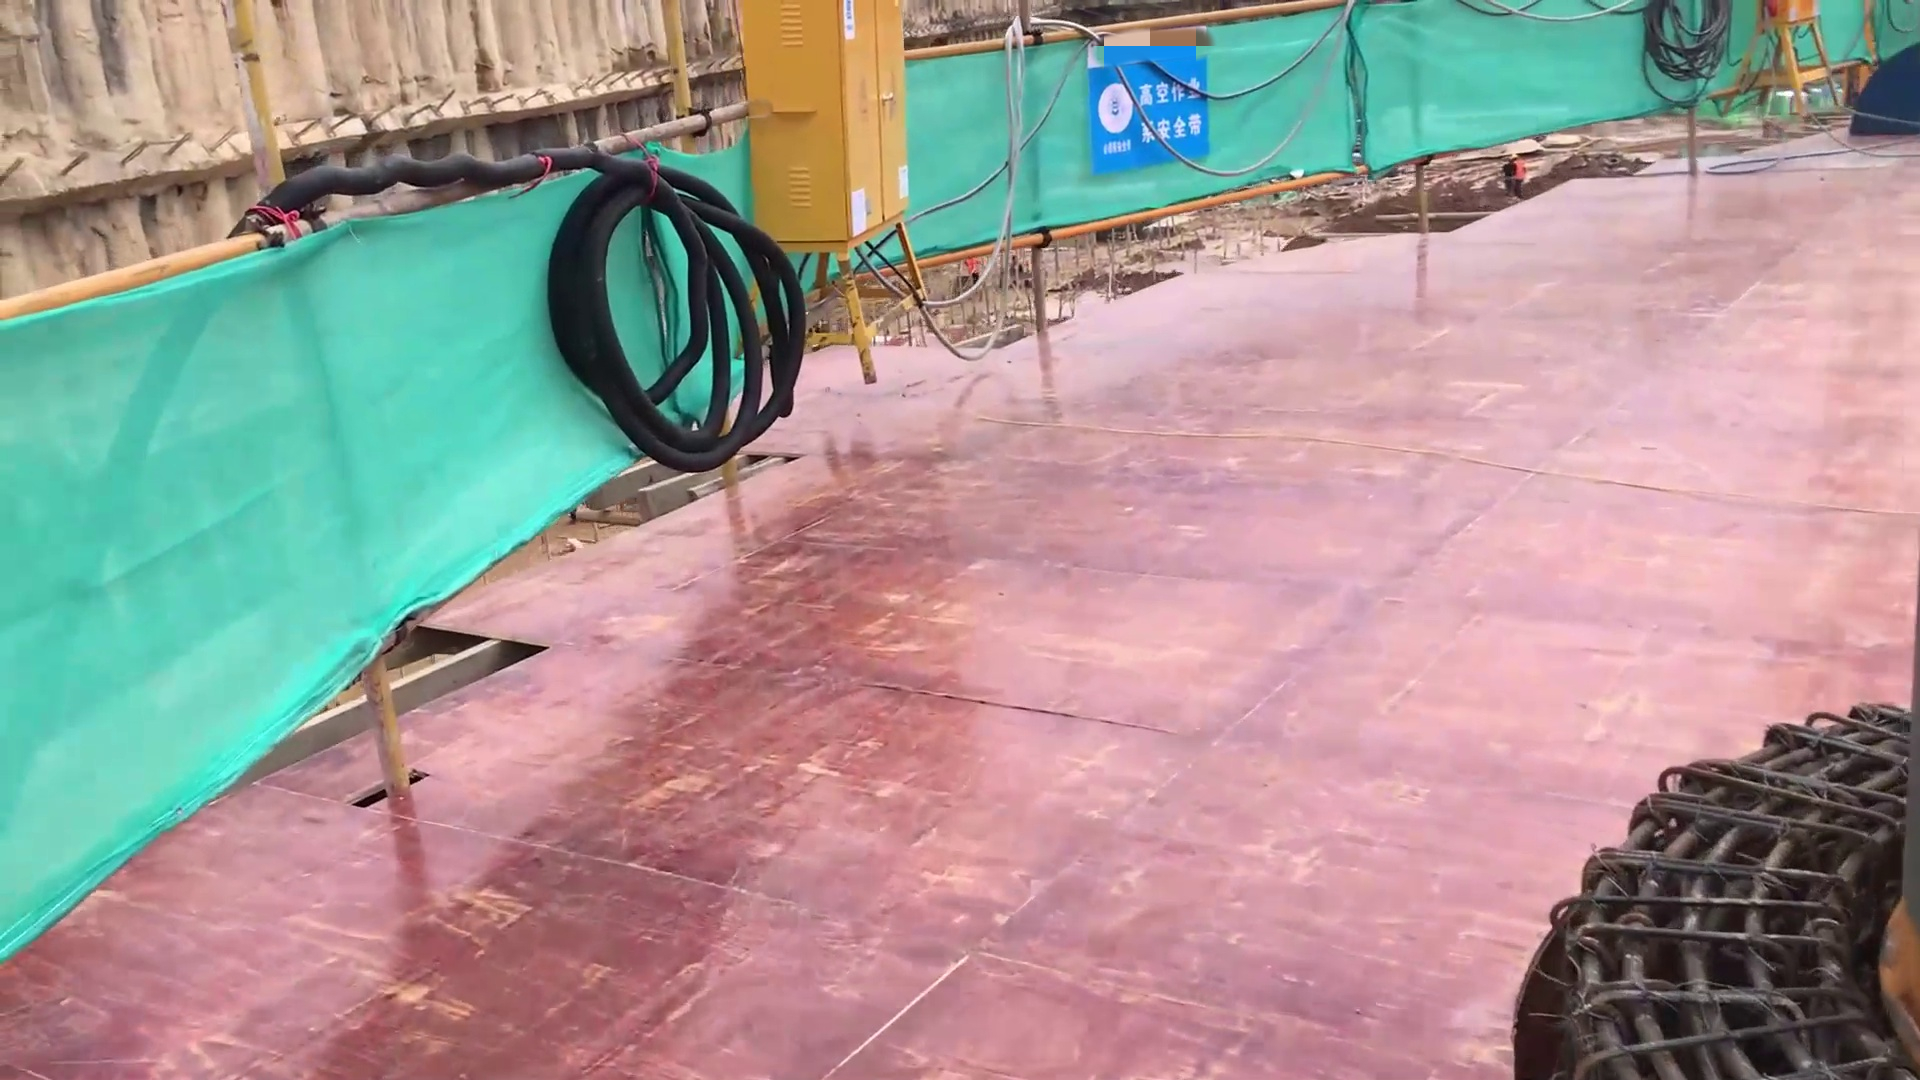ebox: (783, 1, 901, 227)
slogan: (1087, 66, 1213, 185)
